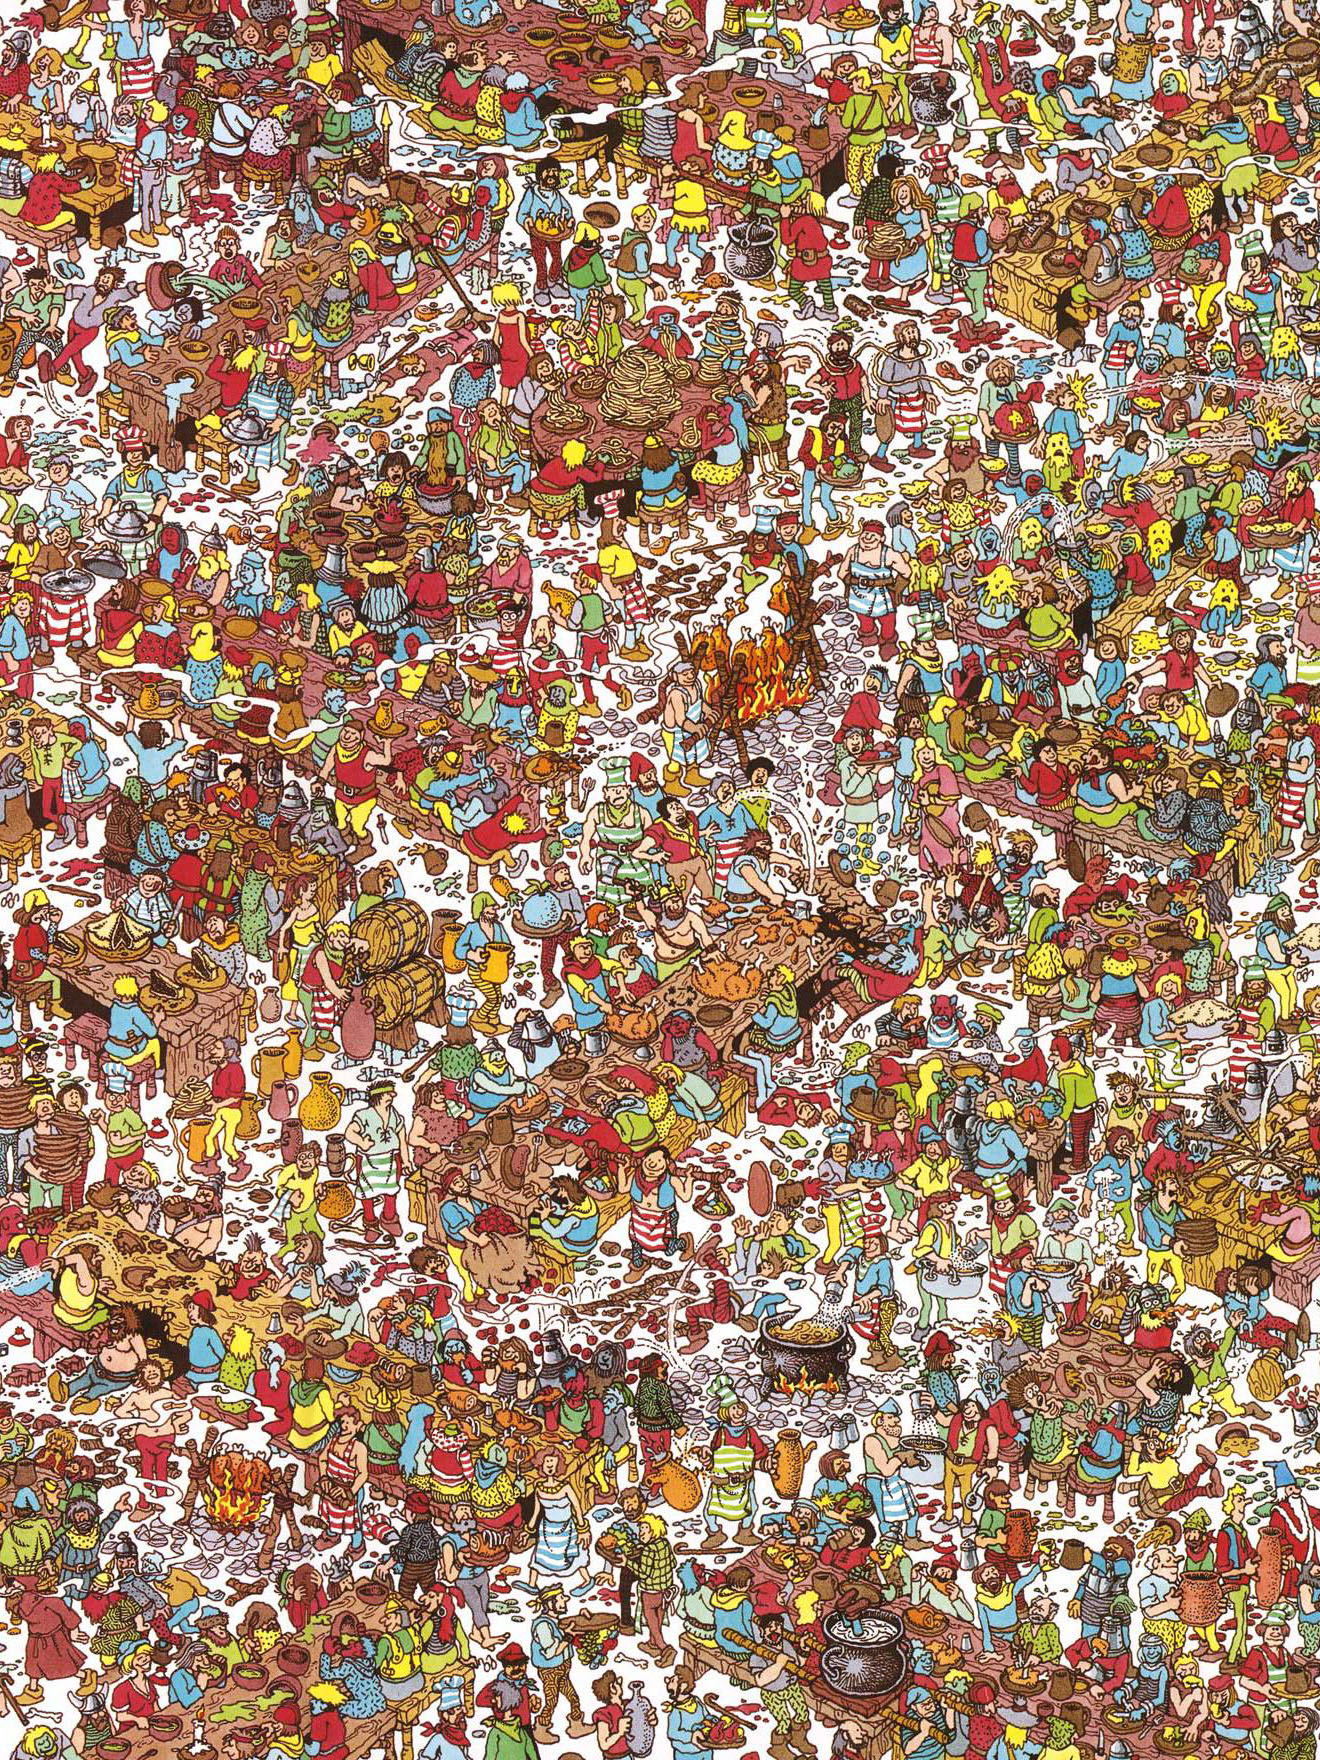waldo: (492, 592, 524, 637)
